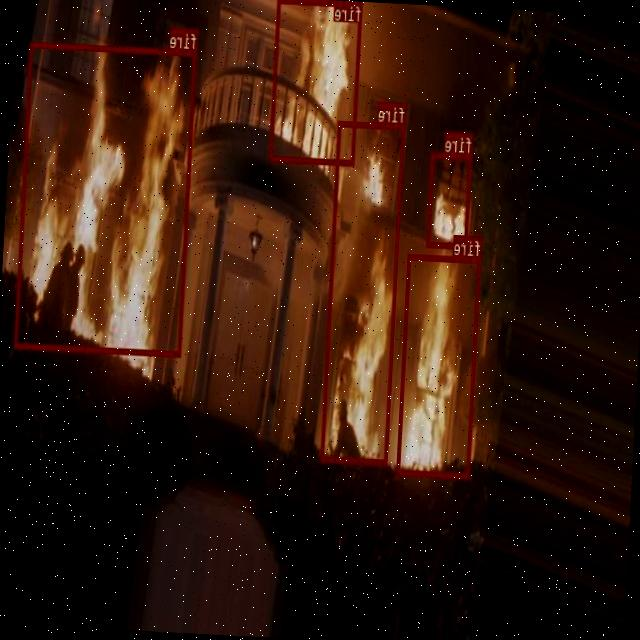fire: (14, 42, 198, 356), (321, 120, 406, 464), (398, 253, 482, 478), (269, 0, 363, 164), (428, 152, 473, 248)
